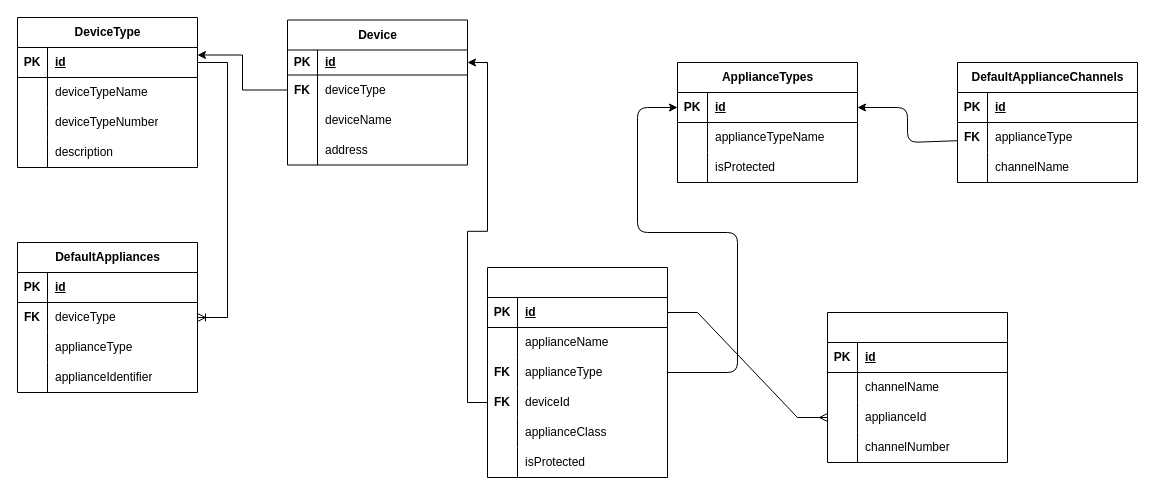
The diagram is 1155 pixels wide and 495 high, and some of its shapes have lost their labels. Each missing label, with the box of its shape:
ApplianceChannels: (826, 312, 1008, 462)
Appliances: (486, 266, 668, 478)
